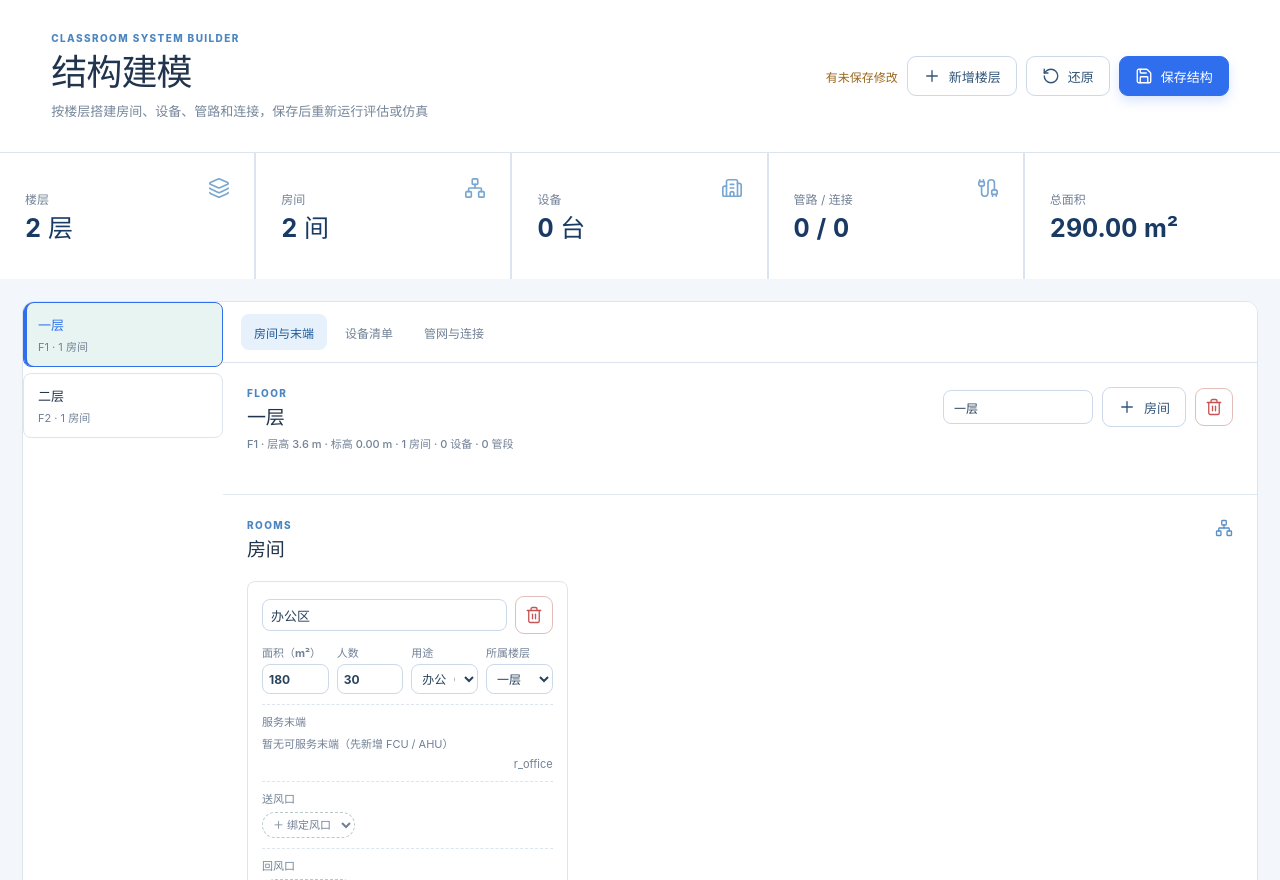
Test: BuildingView floor navigation › switches the detail panel when another floor is selected
This screenshot has width=1280, height=880.
Click the button with class "floor-nav-item" showing "二层 F2 · 1 房间": (123, 406) [23, 373, 223, 438]
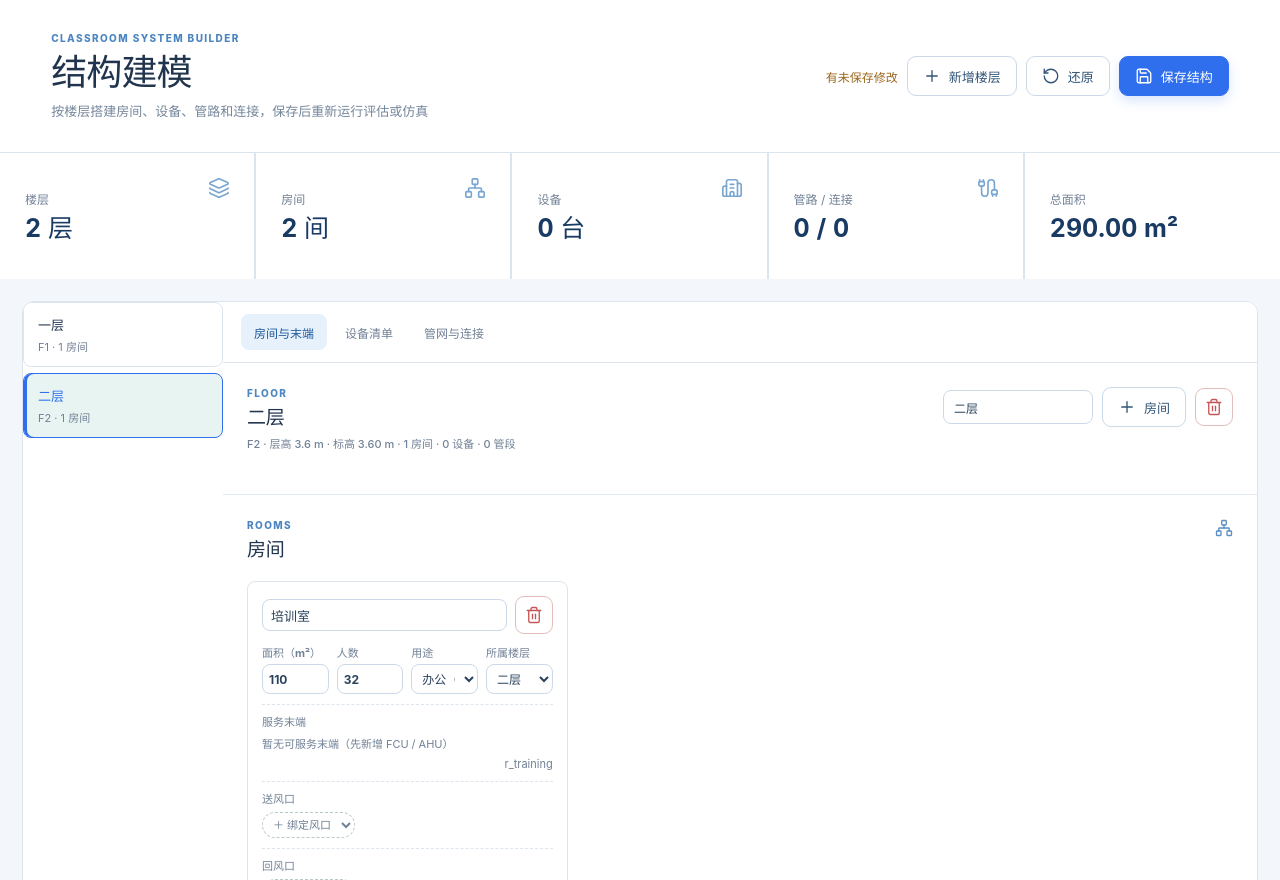
expect the heading "二层" is shown: met, box [247, 406, 285, 429]
expect the field named "r_training 名称" holds "培训室": met, box [262, 599, 507, 631]
